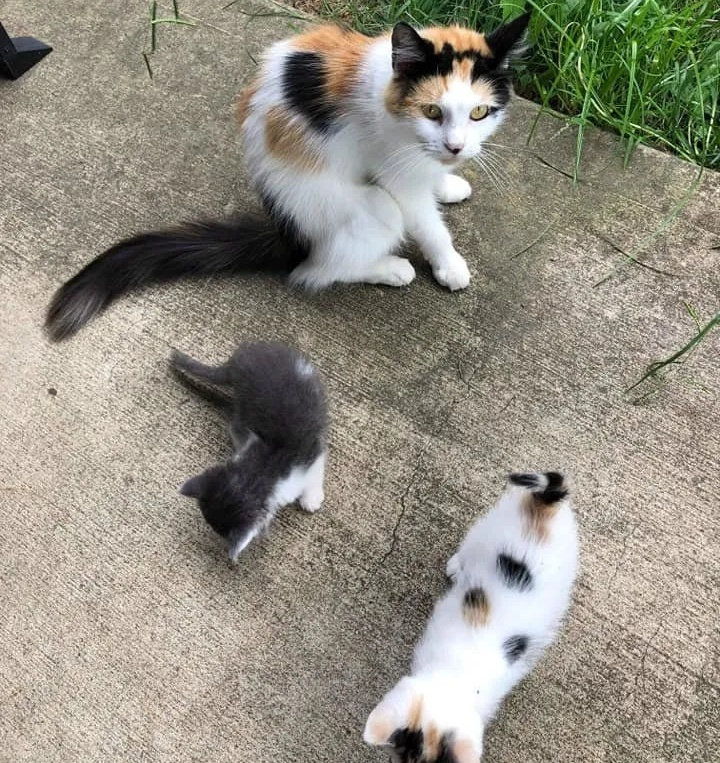cat: (45, 6, 531, 347), (361, 472, 581, 763), (166, 339, 333, 565)
